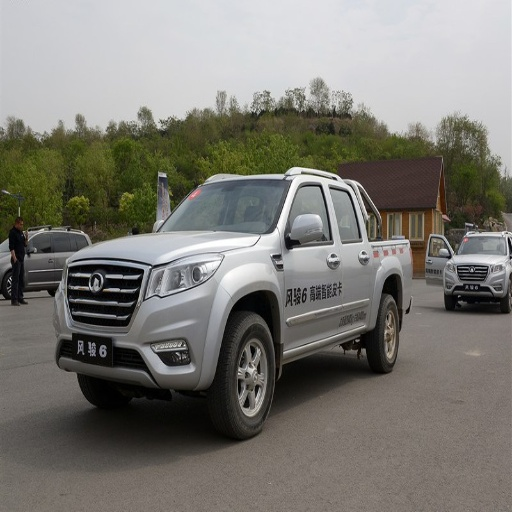front_bumper: (56, 256, 232, 391)
front_glass: (156, 180, 288, 233)
front_left_door: (283, 178, 341, 347)
trunk: (373, 240, 424, 309)
